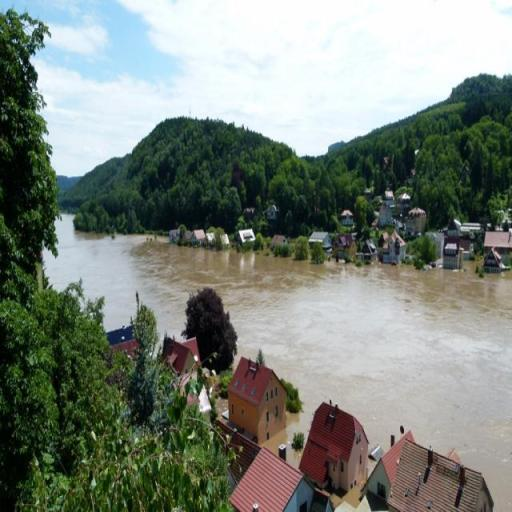flood: (45, 214, 512, 512)
house: (375, 425, 494, 512), (305, 398, 371, 500), (228, 348, 288, 450), (225, 446, 315, 512), (160, 333, 202, 406), (480, 226, 512, 276), (105, 326, 137, 356), (381, 230, 405, 261), (307, 230, 331, 252), (444, 237, 459, 270), (410, 205, 427, 231), (236, 230, 257, 248), (189, 229, 206, 243), (341, 208, 354, 226)
